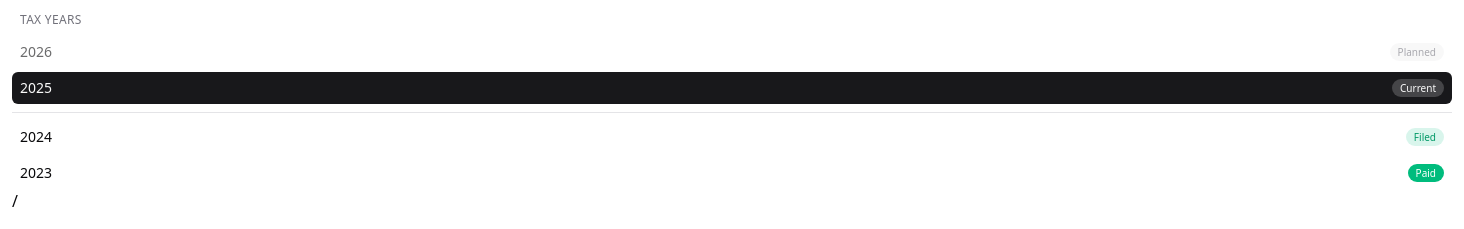
Scenario: YearSidebar › navigates to the year route on click
The image size is (1464, 229).
Click the button "2024 Filed". click: [36, 136]
box: [12,121,1452,153]
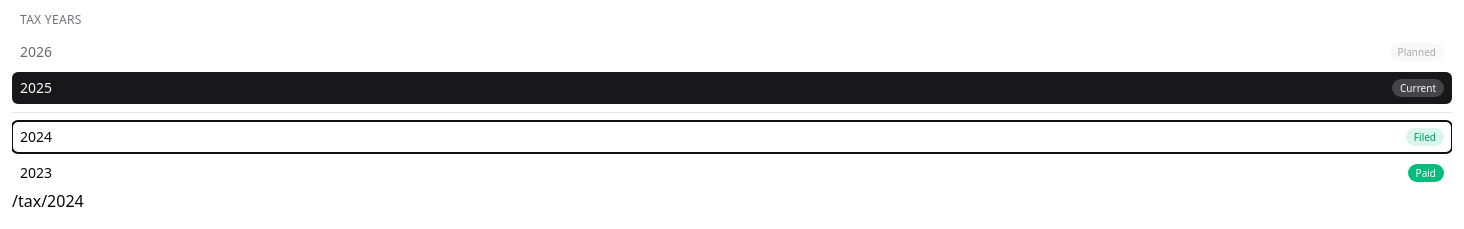
Now the text with test id "location" reads "/tax/2024", box [12,190,84,212]
